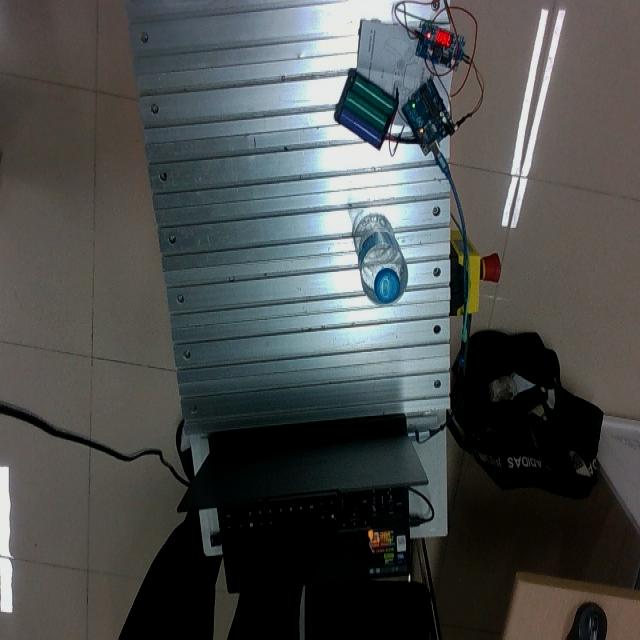lavie: (354, 214, 407, 306)
